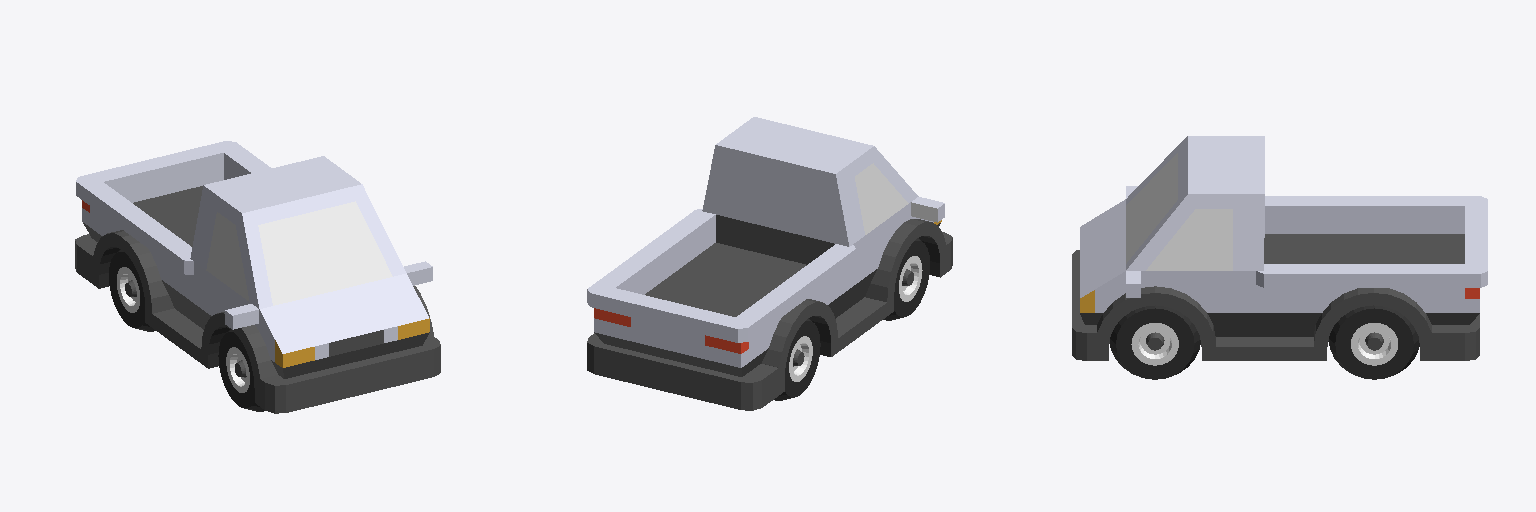
File: truckFlat.obj
The picture shows the model from 3 angles: view 1: azimuth 30°, elevation 25°; view 2: azimuth 150°, elevation 25°; view 3: azimuth 270°, elevation 25°; orthographic projection.
Visible parts, largest first — view 1: body, wheel_backRight, wheel_frontRight; view 2: body, wheel_frontRight, wheel_backRight; view 3: body, wheel_frontLeft, wheel_backLeft.
Part boxes in pixels (bbox=[...]): body: bbox=[75, 141, 440, 413]; wheel_backRight: bbox=[109, 249, 155, 331]; wheel_frontRight: bbox=[218, 329, 264, 411]; body: bbox=[587, 117, 952, 410]; wheel_frontRight: bbox=[883, 238, 929, 320]; wheel_backRight: bbox=[774, 318, 820, 400]; body: bbox=[1072, 136, 1487, 360]; wheel_frontLeft: bbox=[1110, 305, 1200, 379]; wheel_backLeft: bbox=[1329, 305, 1419, 379].
Bounding box in the file's own units: 1.5 × 1.3 × 2.7.